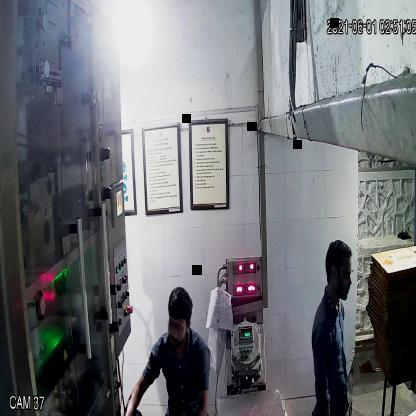no_goggles: (324, 266, 356, 288), (162, 312, 189, 338)
